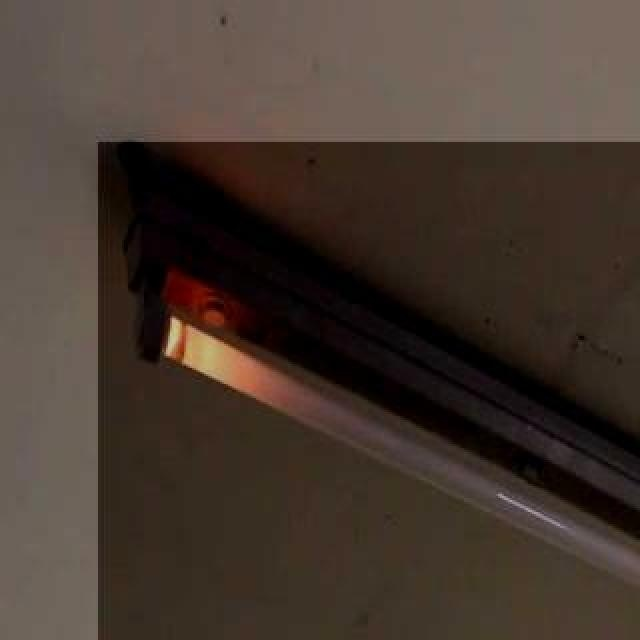fluorescent tube: (118, 220, 640, 640)
